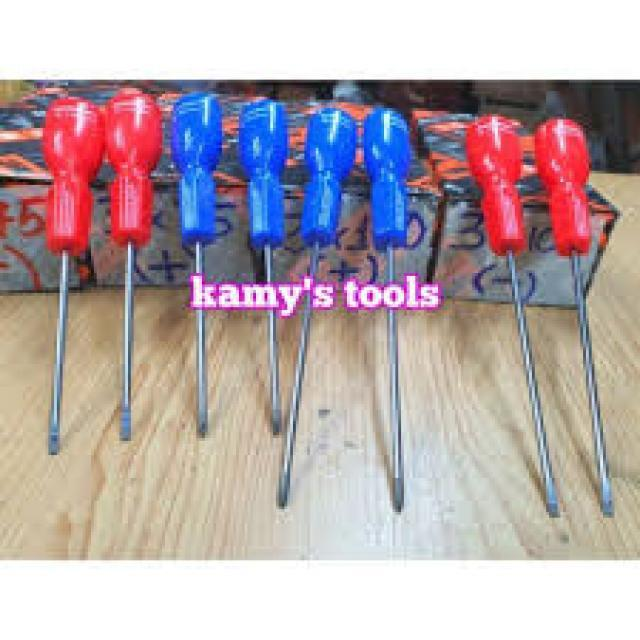screwdriver: (464, 110, 566, 526), (272, 102, 360, 524), (532, 117, 618, 520), (358, 101, 418, 522), (38, 94, 104, 455), (101, 82, 164, 446), (162, 92, 225, 436), (234, 96, 288, 444)
